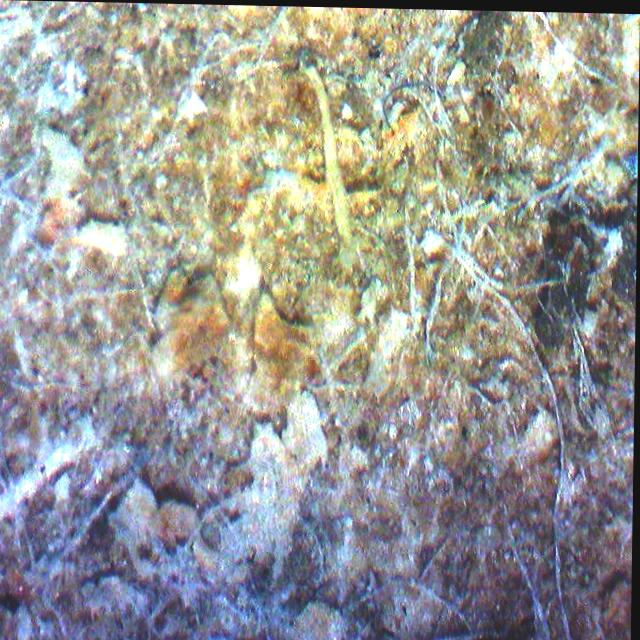microplastic: (368, 64, 444, 137)
